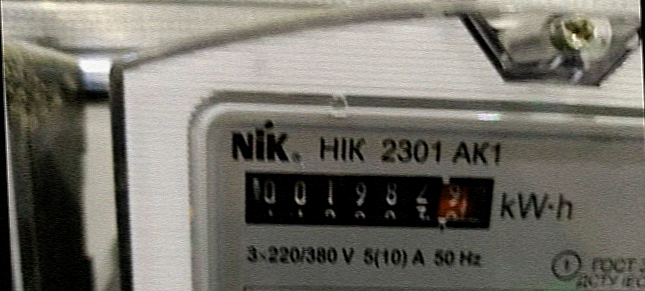0: (290, 176, 308, 205), (260, 174, 277, 203)
1: (322, 175, 335, 204)
2: (412, 174, 431, 203)
8: (382, 176, 399, 205)
9: (444, 178, 465, 207), (351, 176, 368, 206)
screen: (225, 145, 510, 252)
